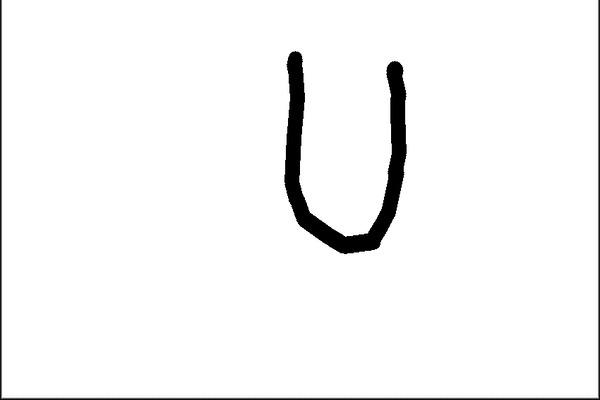U: (276, 36, 437, 256)
